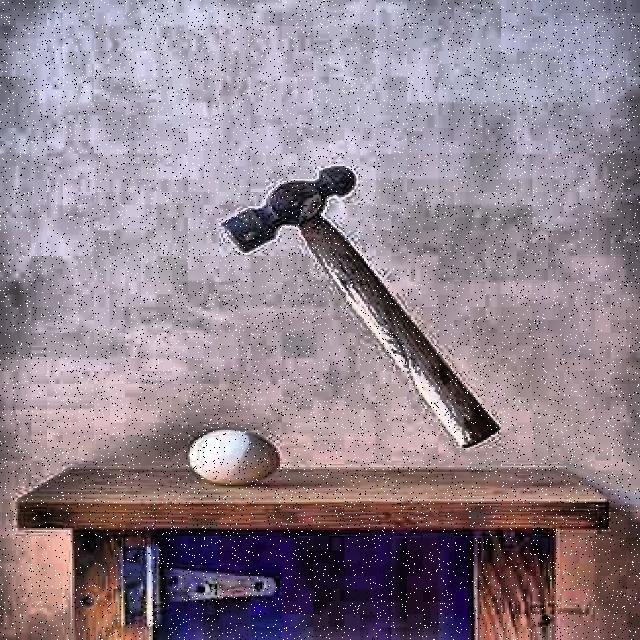hammer: (224, 164, 500, 448)
